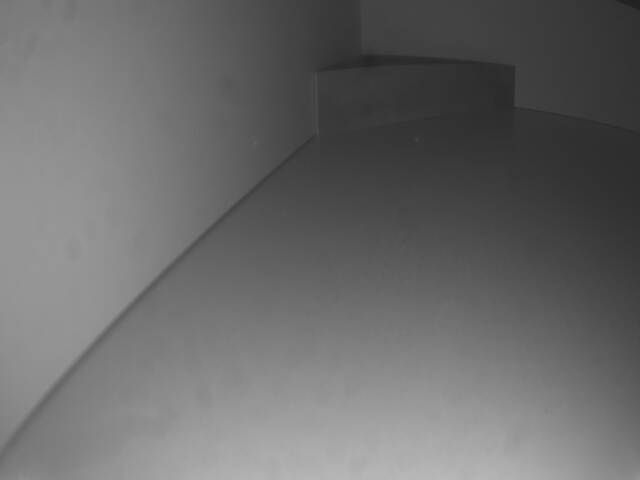Green: (315, 68, 517, 135)
